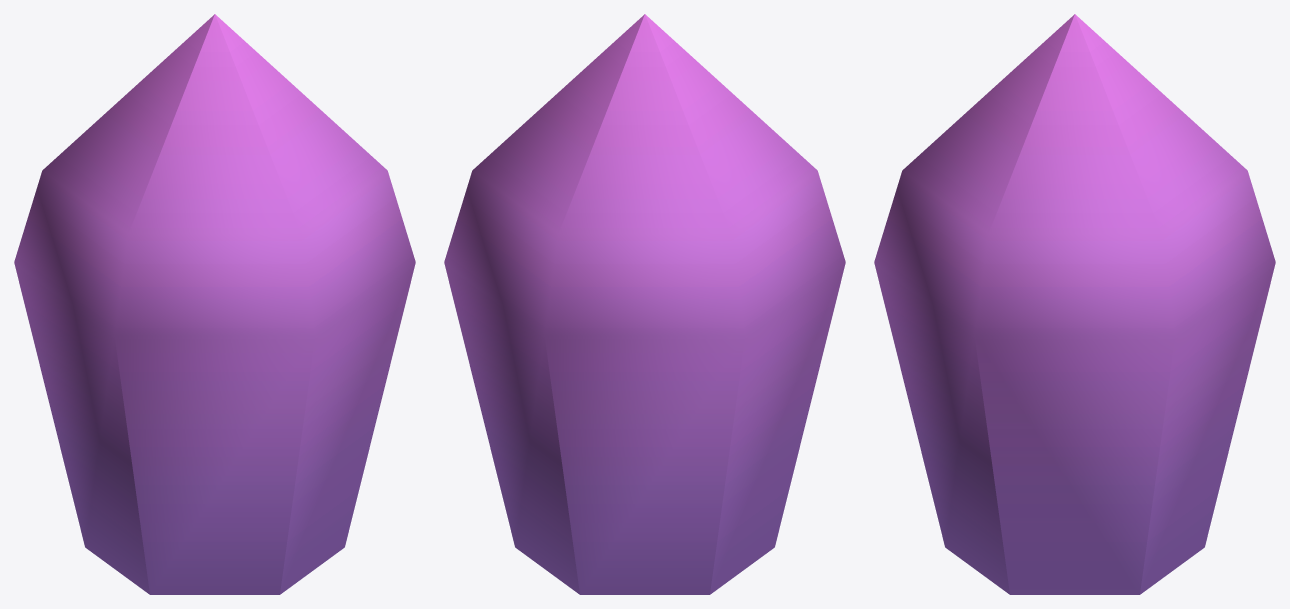
File: kenney-tower-defense-detail-crystal.glb
3 renders of one model, left to right at view 1: azimuth 30°, elevation 25°; view 2: azimuth 150°, elevation 25°; view 3: azimuth 270°, elevation 25°, orthographic.
Visible parts, largest first — view 1: detail-crystal; view 2: detail-crystal; view 3: detail-crystal.
Part boxes in pixels (x1,y1,x2,y2): detail-crystal: (14,14,415,594); detail-crystal: (444,14,845,594); detail-crystal: (874,14,1275,594).
Size of the model in its own units: 0.2512 by 0.425 by 0.29.
Materials: 1 (1 with a texture image).
